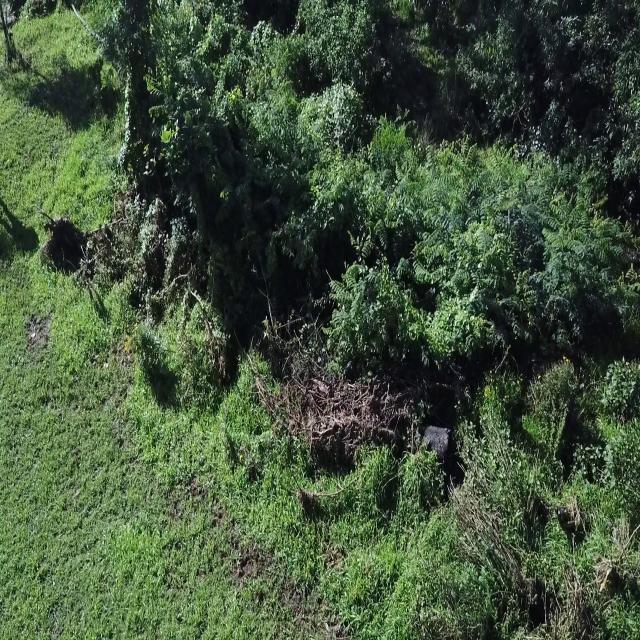Mysore-Thorn-Weed: (407, 147, 619, 354), (322, 246, 400, 374), (313, 145, 410, 237)
